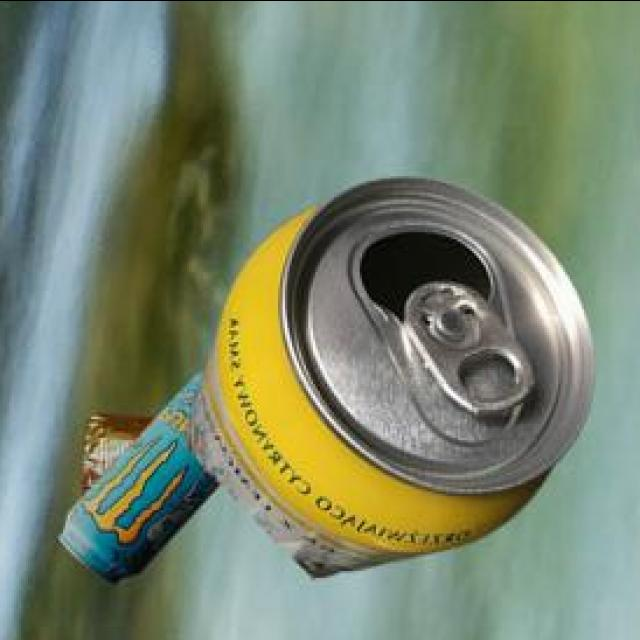logam: (183, 174, 590, 573), (55, 368, 216, 580), (81, 410, 151, 489)
